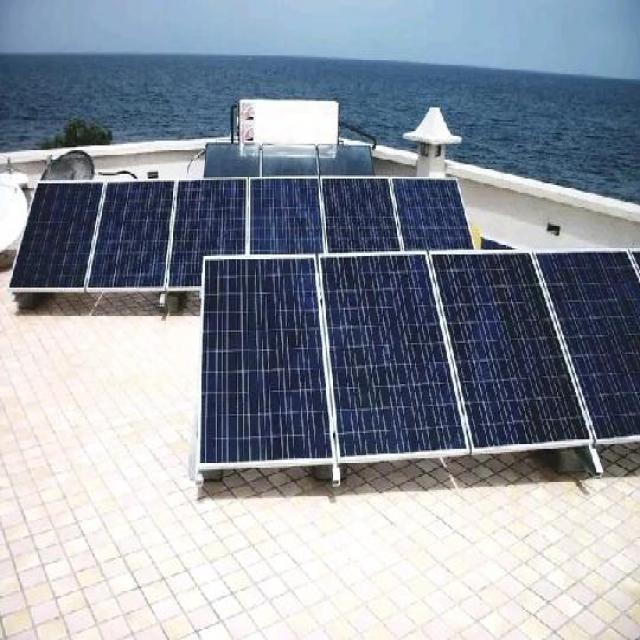no faulty: (324, 256, 464, 446), (437, 257, 583, 436), (200, 262, 330, 462), (546, 257, 638, 436), (13, 183, 98, 281), (92, 183, 173, 284), (170, 183, 242, 284), (328, 182, 399, 250), (252, 183, 324, 248), (399, 183, 471, 243)
